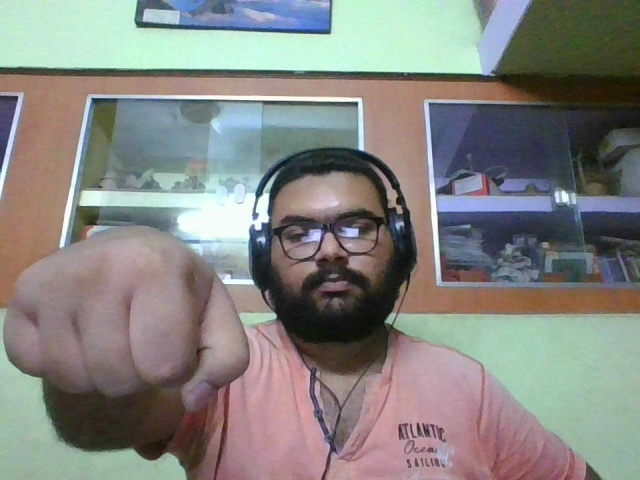yes: (6, 226, 262, 422)
